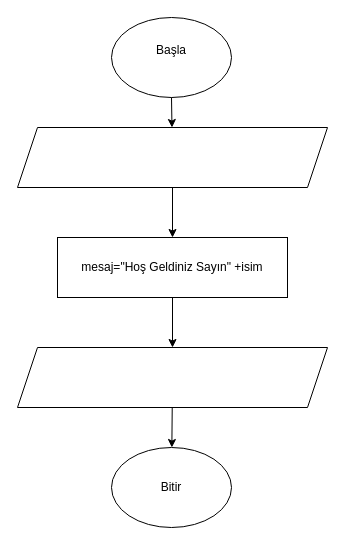
The diagram is 345 pixels wide and 545 high, and some of its shapes have lost their labels. Each missing label, with the centre of its shape:
Ekrana "mesaj" değişkenini yazdır: the point at 172,377
Kullanıcıdan "isim" verisini al: the point at 172,157
